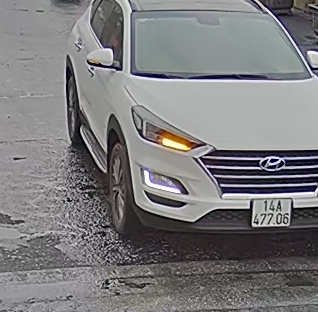vehicle plate: (250, 194, 296, 228)
